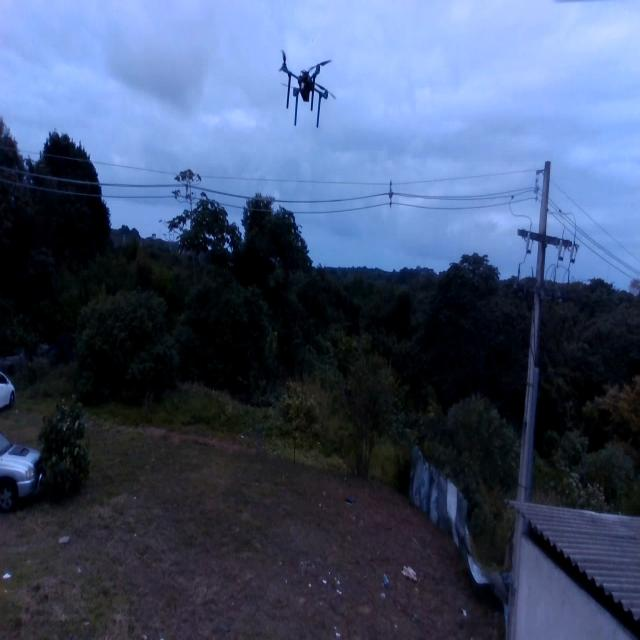-uav-: (273, 30, 342, 140)
